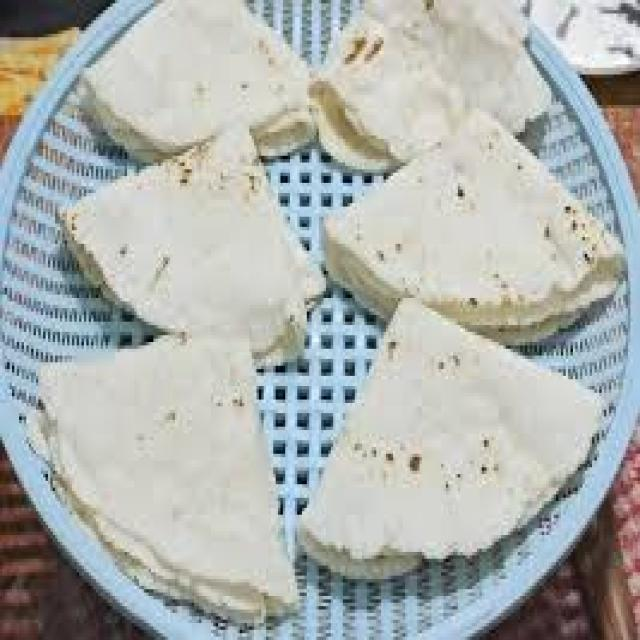RICE BHAKRI: (298, 301, 608, 580), (336, 114, 634, 352), (40, 338, 297, 610), (65, 126, 327, 351), (95, 1, 317, 163), (327, 0, 557, 155)
